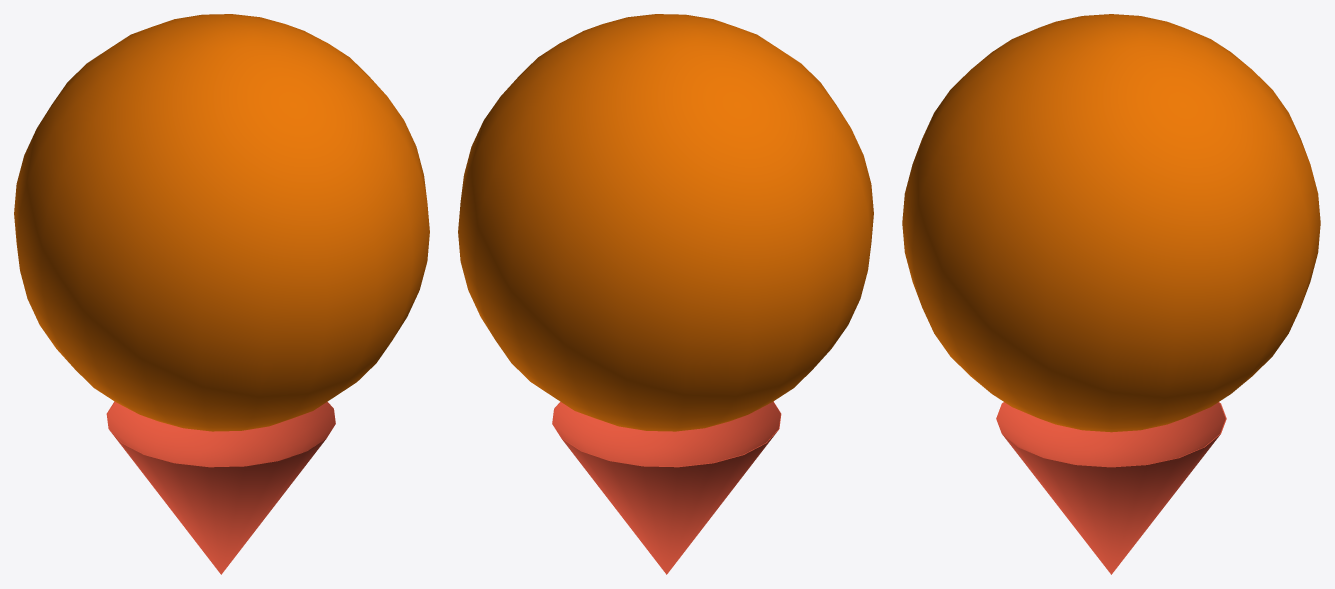
File: pointer.fbx
3 views of the same model, side by side, from view 1: azimuth 30°, elevation 25°; view 2: azimuth 150°, elevation 25°; view 3: azimuth 270°, elevation 25° (orthographic).
Parts seen in each view (by area): view 1: pSphere2, pCone2; view 2: pSphere2, pCone2; view 3: pSphere2, pCone2.
Boxes of the visible parts, box(x1,y1,x2,y2) form: pSphere2: box(14, 14, 429, 431); pCone2: box(106, 401, 335, 574); pSphere2: box(458, 14, 873, 431); pCone2: box(552, 401, 781, 574); pSphere2: box(902, 14, 1320, 432); pCone2: box(996, 402, 1226, 574).
Bounding box in the file's own units: 0.0232 × 0.0332 × 0.0232.
